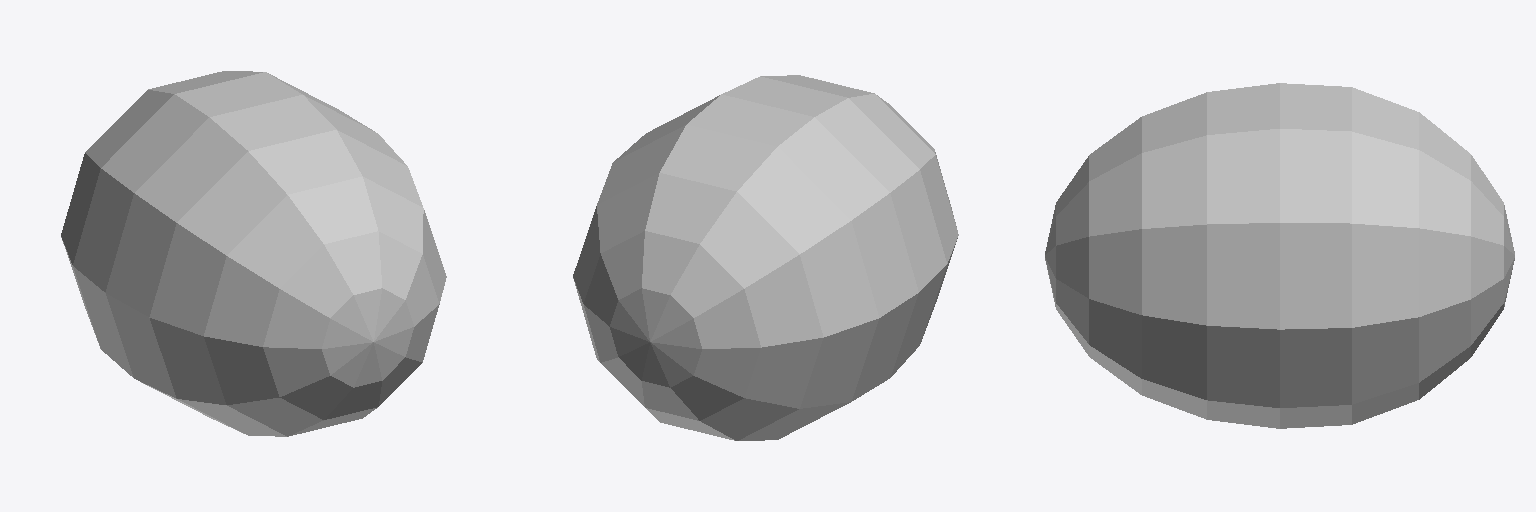
Rendered from Egg_01.obj.
3 renders of one model, left to right at view 1: azimuth 30°, elevation 25°; view 2: azimuth 150°, elevation 25°; view 3: azimuth 270°, elevation 25°, orthographic.
Visible parts, largest first — view 1: pSphere47; view 2: pSphere47; view 3: pSphere47.
Boxes of the visible parts, box(x1,y1,x2,y2) form: pSphere47: box(61, 71, 446, 436); pSphere47: box(573, 75, 958, 440); pSphere47: box(1045, 83, 1514, 428).
Size of the model in its own units: 84.06 by 79.95 by 114.